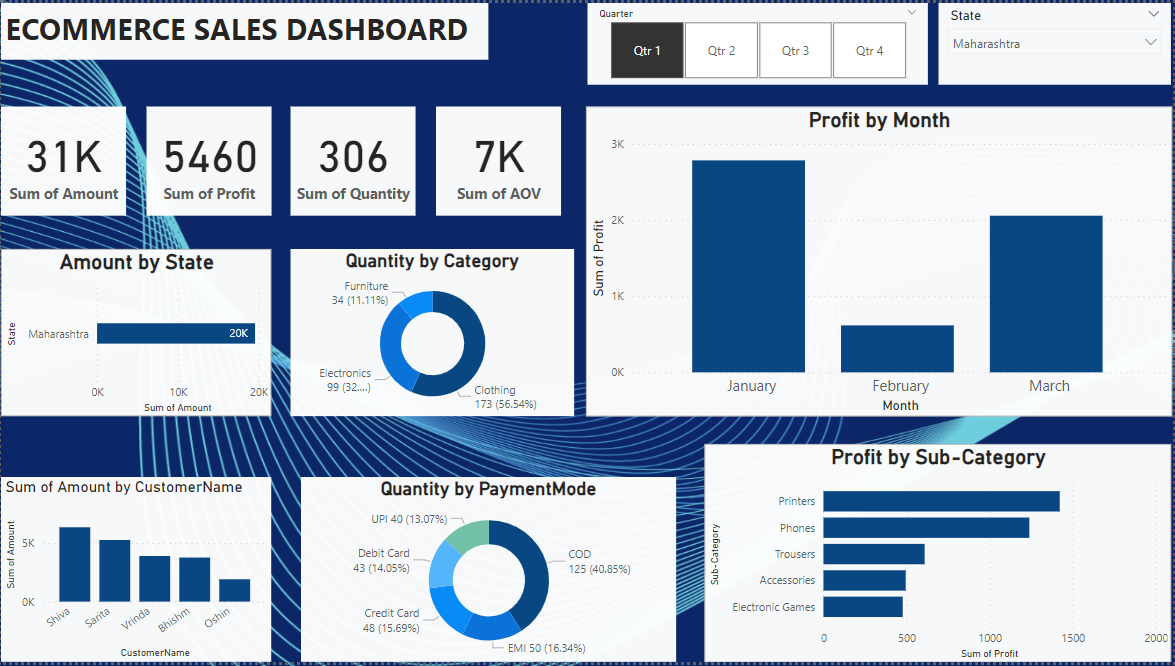

The page's visual inventory and layout, read from the dashboard file:
{"tool":"powerbi","page":{"name":"Page 1","canvas":[1280,720],"ordinal":0},"visuals":[{"type":"textbox","box":[0,0,532.5,62],"z":0},{"type":"columnChart","title":"Profit by Month","fields":{"Category":["Orders.Order Date.Variation.Date Hierarchy.Month"],"Y":["Details.Profit"]},"box":[638.9,112.8,640.5,338.5],"z":1},{"type":"barChart","title":"Profit by Sub-Category","fields":{"Y":["Details.Profit"],"Category":["Details.Sub-Category"]},"box":[769.3,481.6,510.2,238.4],"z":2},{"type":"donutChart","title":"Quantity by Category","fields":{"Category":["Details.Category"],"Y":["Details.Quantity"]},"box":[316.3,268.6,309.9,182.8],"z":3},{"type":"donutChart","title":"Quantity by PaymentMode","fields":{"Y":["Details.Quantity"],"Category":["Details.PaymentMode"]},"box":[327.4,518.1,410.1,201.9],"z":4},{"type":"card","fields":{"Values":["Details.Amount"]},"box":[0,112.8,136.7,119.2],"z":5},{"type":"card","fields":{"Values":["Details.Profit"]},"box":[158.9,112.8,136.7,119.2],"z":6},{"type":"card","fields":{"Values":["Details.Quantity"]},"box":[316.3,112.8,136.7,119.2],"z":7},{"type":"card","fields":{"Values":["Details.AOV"]},"box":[475.2,112.8,136.7,119.2],"z":8},{"type":"barChart","title":"Amount by State","fields":{"Category":["Orders.State"],"Y":["Details.Amount"]},"box":[0,268.6,295.6,182.8],"z":9},{"type":"columnChart","fields":{"Category":["Orders.CustomerName"],"Y":["Details.Amount"]},"box":[0,518.1,295.6,201.9],"z":10},{"type":"slicer","fields":{"Values":["Orders.Order Date.Variation.Date Hierarchy.Quarter"]},"box":[640.5,0,371.9,89],"z":11},{"type":"slicer","fields":{"Values":["Orders.State"]},"box":[1025.2,0,254.3,89],"z":12}]}

Visuals, with their boxes in screenshot pixels (x1, y1, x2, y2), scaled from the page's 1280x720 canvas onto the 1175x666 screenshot:
textbox: bbox=[0, 0, 489, 57]
"Profit by Month" columnChart: bbox=[586, 104, 1174, 417]
"Profit by Sub-Category" barChart: bbox=[706, 445, 1174, 665]
"Quantity by Category" donutChart: bbox=[290, 248, 575, 418]
"Quantity by PaymentMode" donutChart: bbox=[301, 479, 677, 665]
card - Details.Amount: bbox=[0, 104, 125, 215]
card - Details.Profit: bbox=[146, 104, 271, 215]
card - Details.Quantity: bbox=[290, 104, 416, 215]
card - Details.AOV: bbox=[436, 104, 562, 215]
"Amount by State" barChart: bbox=[0, 248, 271, 418]
columnChart - Orders.CustomerName x Details.Amount: bbox=[0, 479, 271, 665]
slicer - Orders.Order Date.Variation.Date Hierarchy.Quarter: bbox=[588, 0, 929, 82]
slicer - Orders.State: bbox=[941, 0, 1174, 82]
